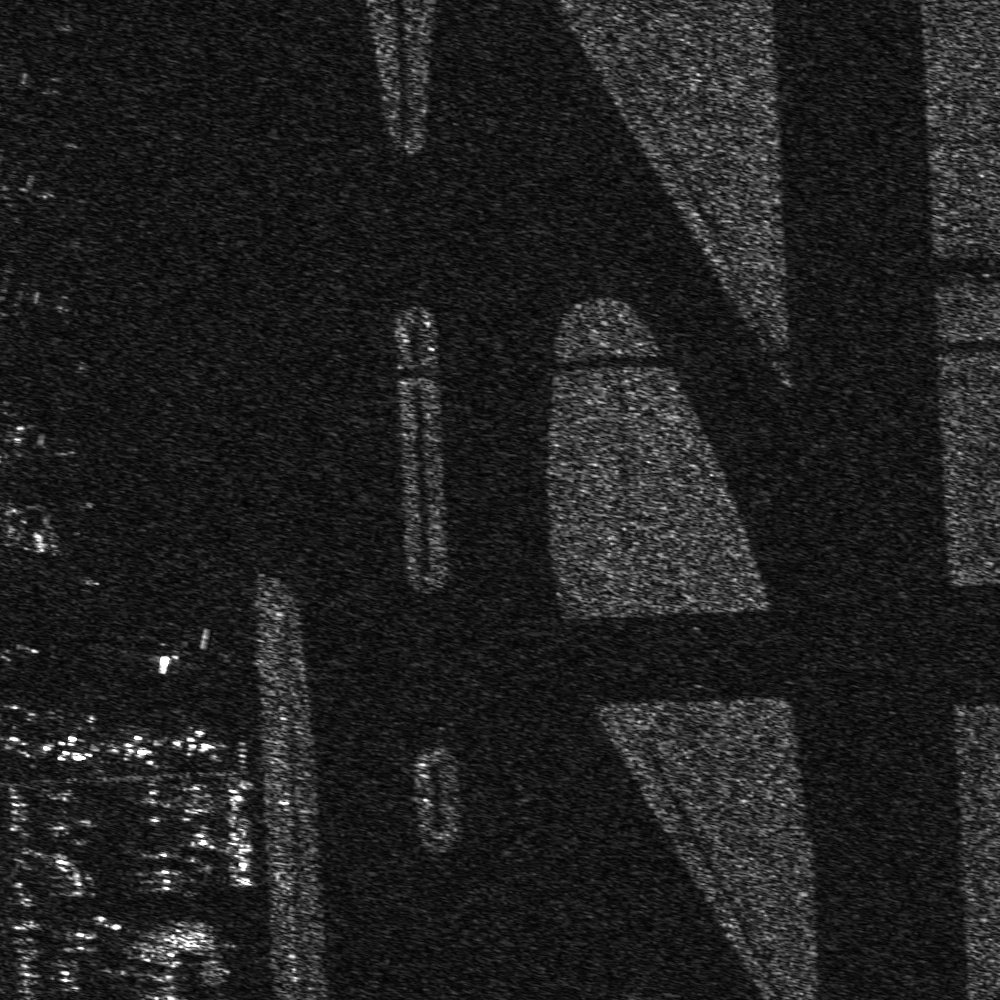ARJ21: (42, 731, 100, 764)
other: (107, 726, 163, 768), (171, 725, 228, 765)
